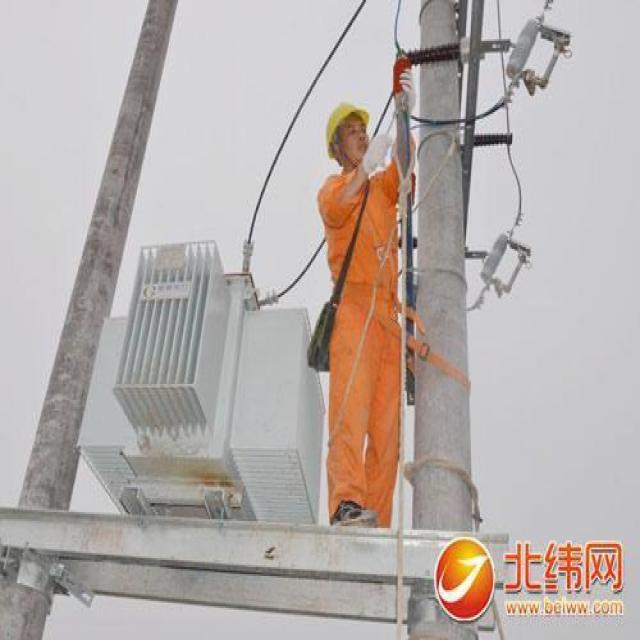hat: (324, 92, 374, 175)
